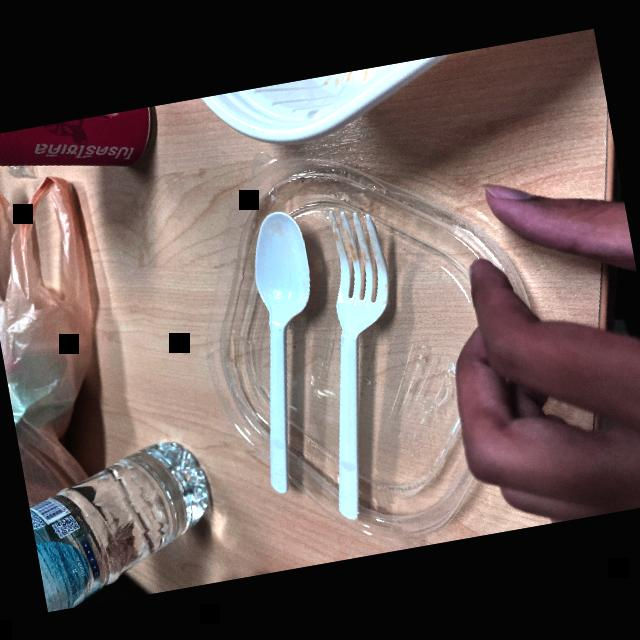plastic_cultery: (275, 196, 444, 524), (211, 194, 352, 516)
